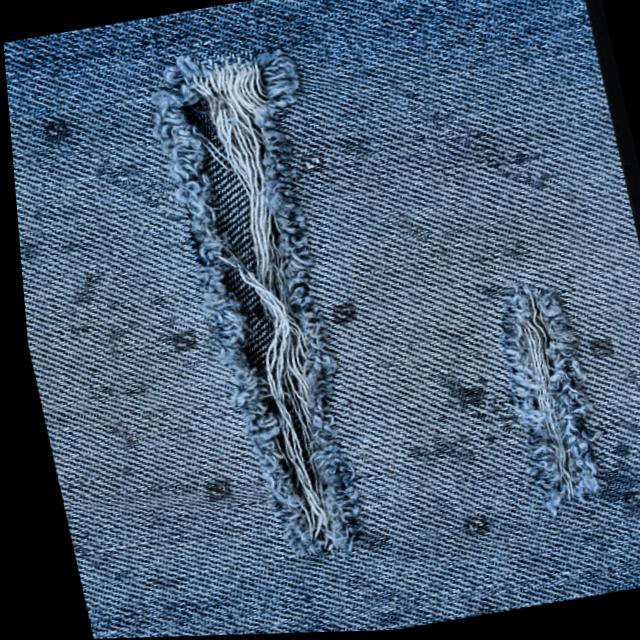Hole: (111, 13, 418, 589), (465, 247, 630, 543)
